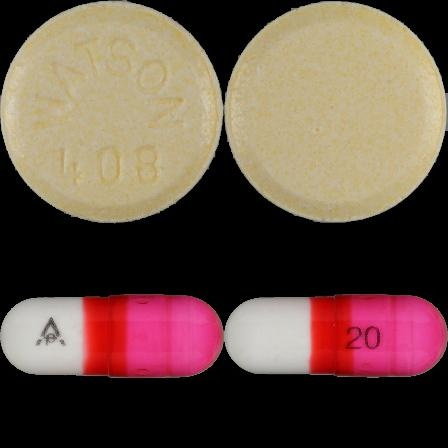63187-442: (0, 0, 224, 224)
